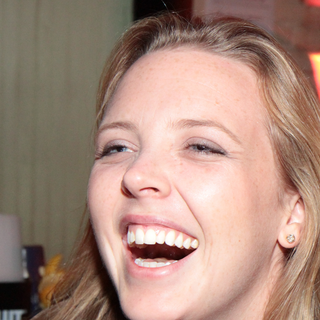eye: (94, 138, 139, 163), (180, 139, 231, 161)
